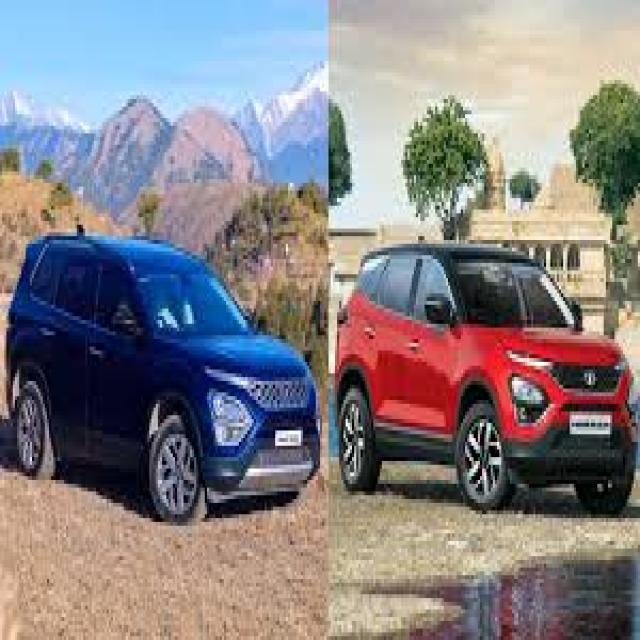Car: (6, 232, 320, 519), (335, 246, 635, 512)
